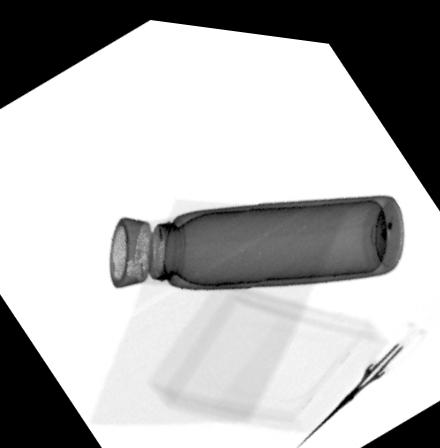Scissors: (297, 298, 433, 438)
